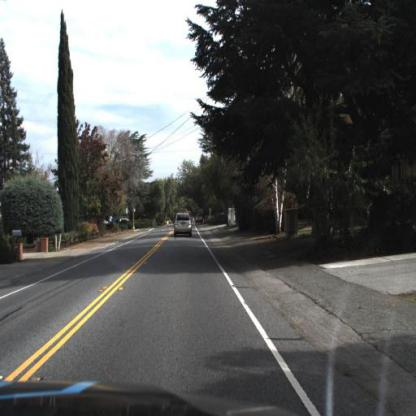car: (174, 210, 197, 239)
